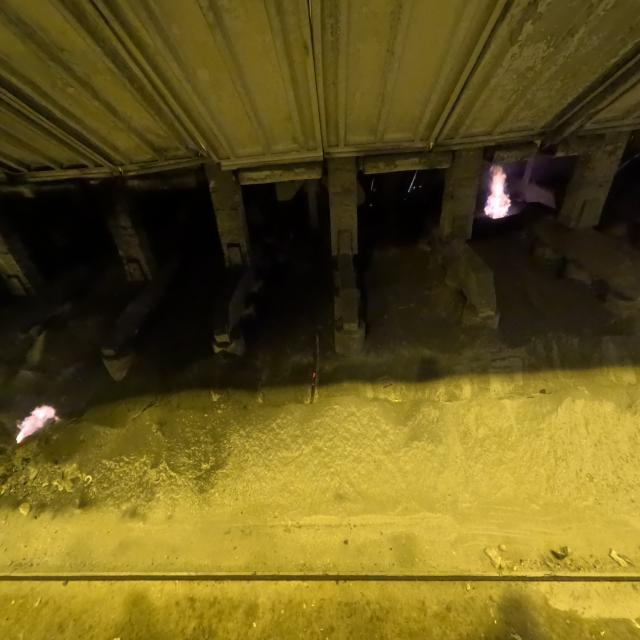Redspot: (312, 373, 316, 377), (312, 384, 314, 385)
